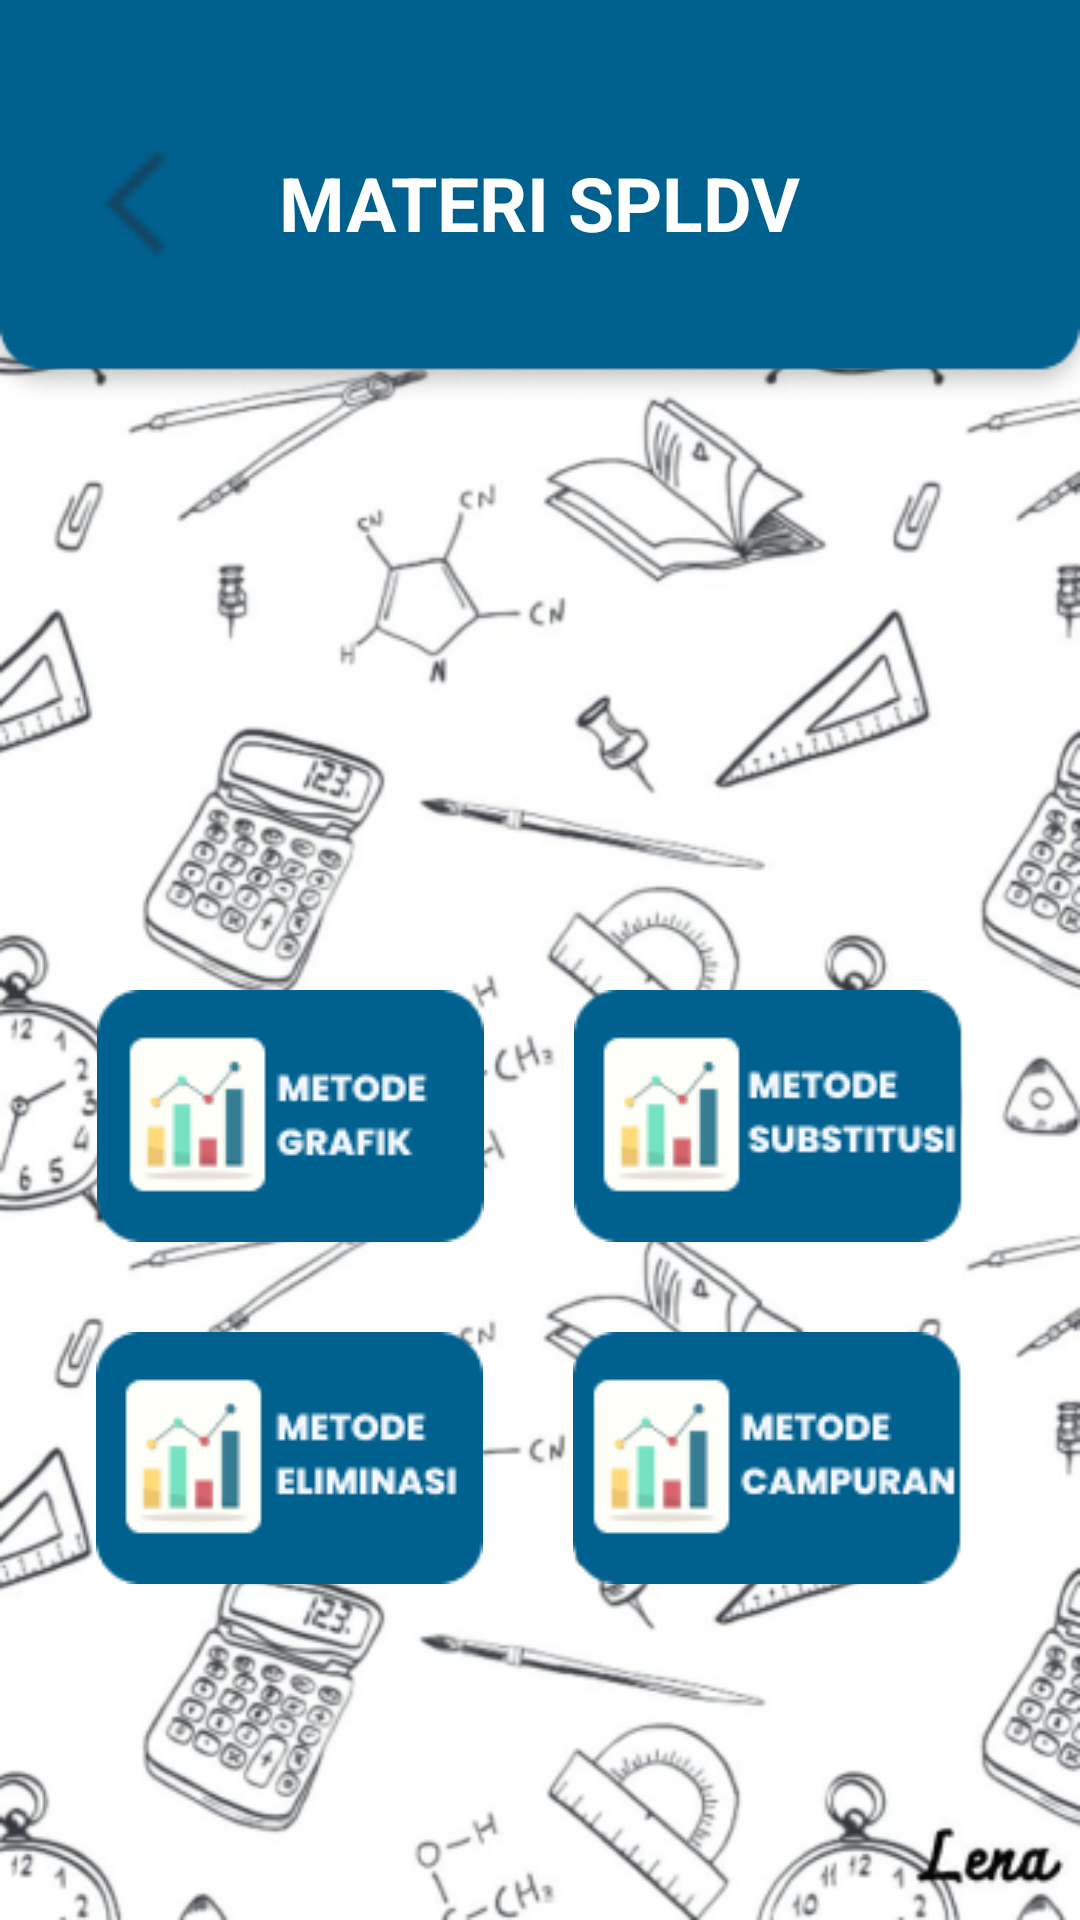

Icon click points for this 1080px x 1920px phone screenshot, format (x,y):
kembali: (135,203)
